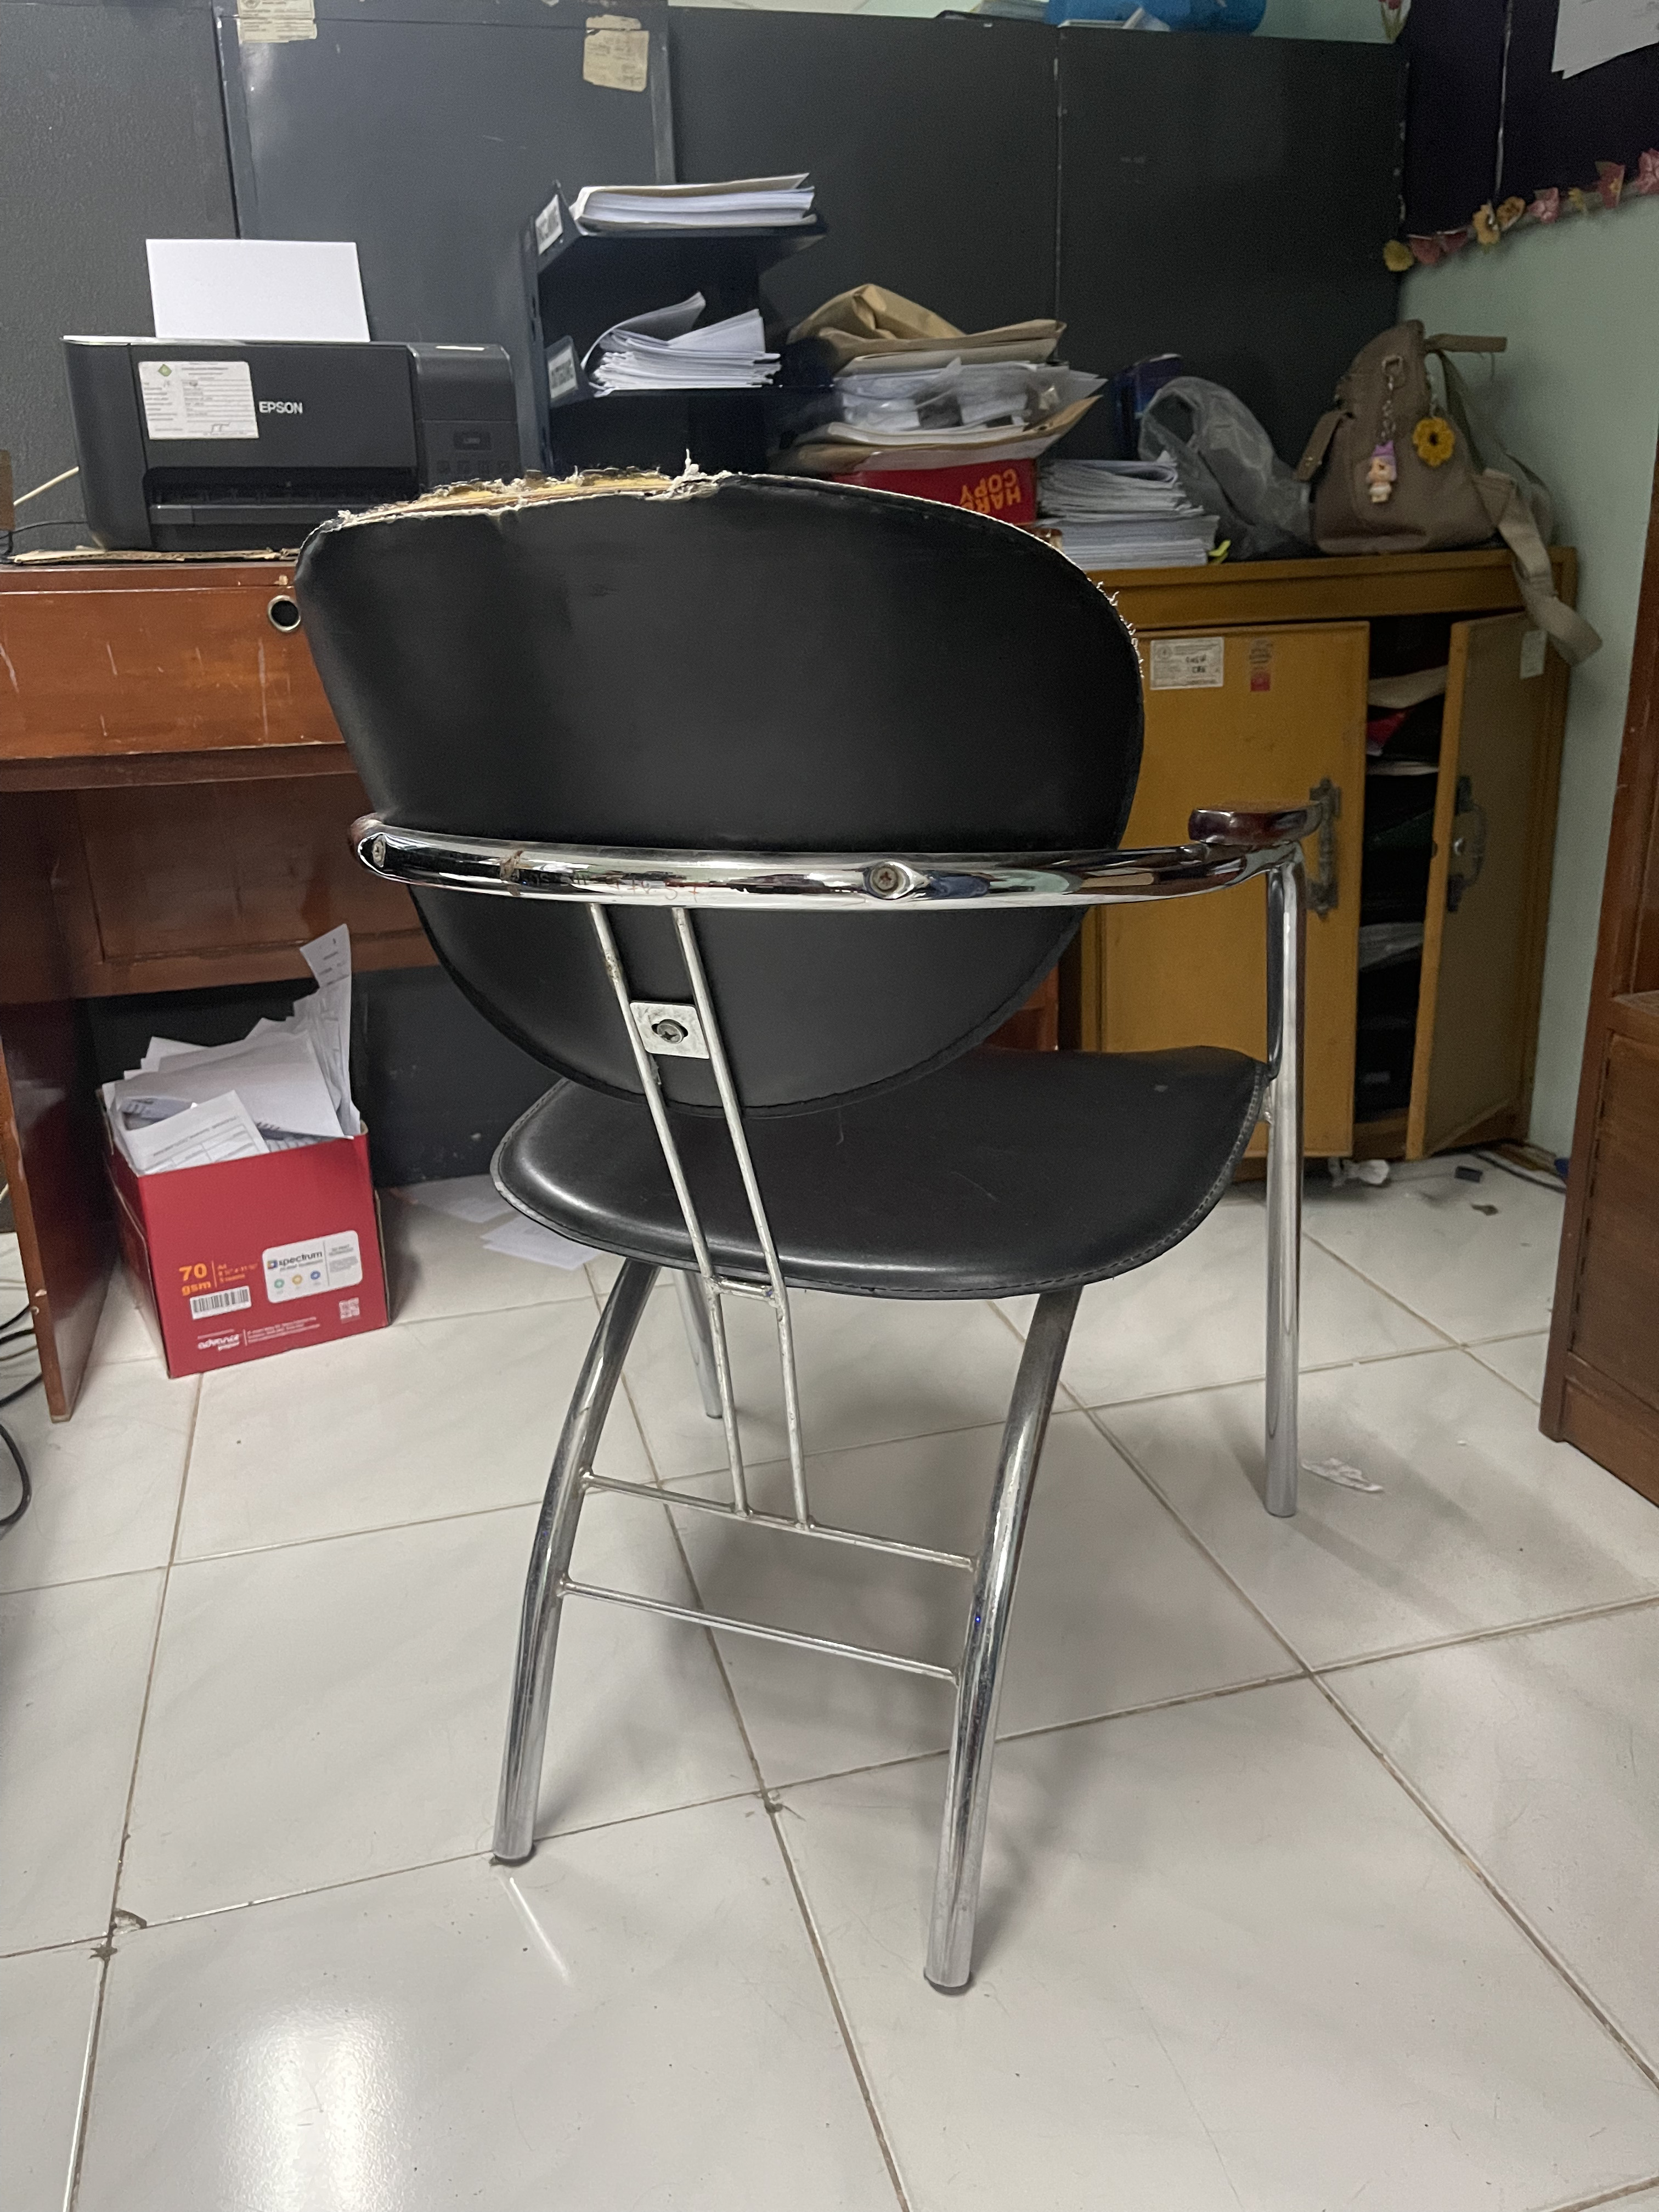chair1: (268, 446, 1328, 2010)
